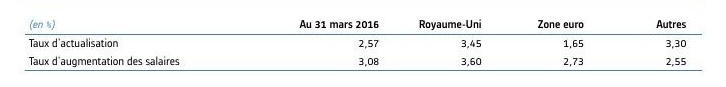table: (0, 0, 726, 87)
